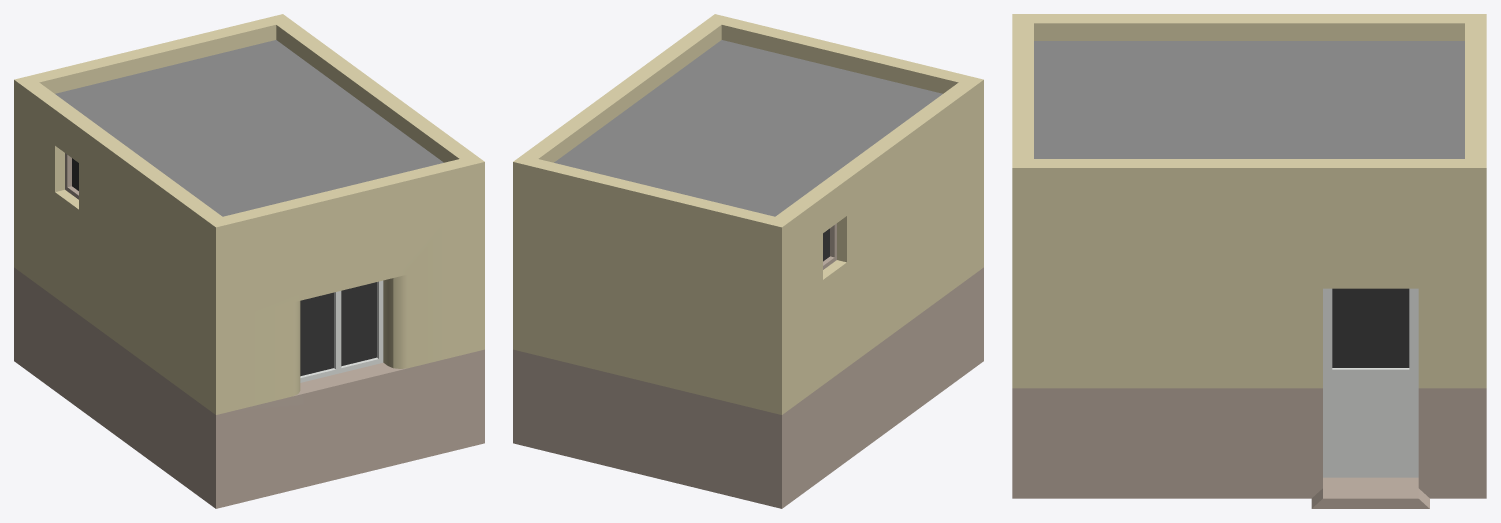
Rendered from nadog_2.gltf.
The picture shows the model from 3 angles, left to right: view 1: azimuth 30°, elevation 25°; view 2: azimuth 150°, elevation 25°; view 3: azimuth 270°, elevation 25°; orthographic projection. The views are drawn at different scales.
Visible parts, largest first — view 1: zgrada_1.001; view 2: zgrada_1.001; view 3: zgrada_1.001.
Part boxes in pixels (x1,y1,x2,y2): zgrada_1.001: [14, 14, 484, 508]; zgrada_1.001: [513, 14, 983, 508]; zgrada_1.001: [1012, 14, 1486, 508].
Size of the model in its own units: 3.85 by 3.61 by 4.69.
